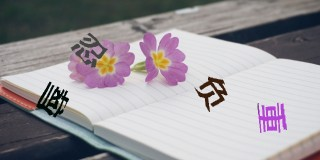忍: (70, 32, 106, 67)
负: (196, 74, 228, 113)
辱: (36, 79, 71, 119)
重: (255, 99, 289, 133)
